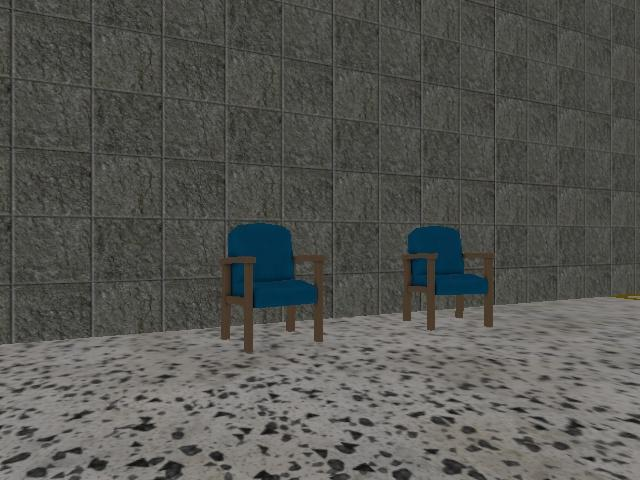chair: (219, 223, 327, 352), (402, 226, 494, 330)
